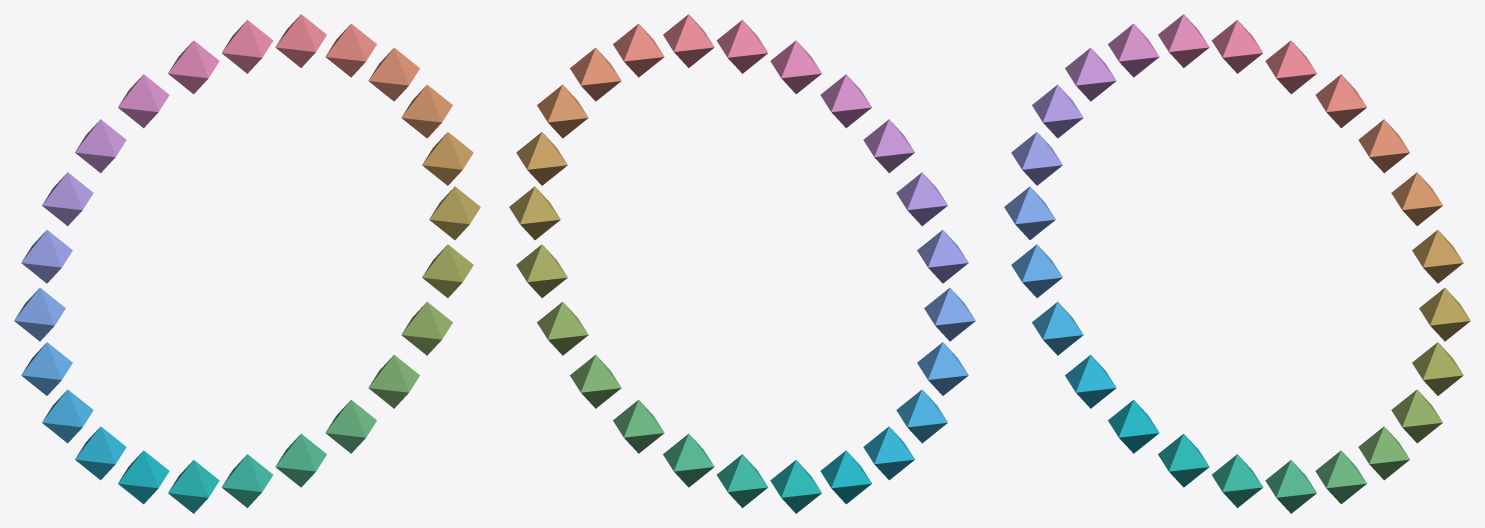
File: colors1.obj
3 renders of one model, left to right at view 1: azimuth 30°, elevation 25°; view 2: azimuth 150°, elevation 25°; view 3: azimuth 330°, elevation 25°, orthographic.
Parts seen in each view (by area): view 1: lch_70_40_45, lch_70_40_165, lch_70_40_225, lch_70_40_345, lch_70_40_75, lch_70_40_120, lch_70_40_150, lch_70_40_255, lch_70_40_300, lch_70_40_330, lch_70_40_30, lch_70_40_60 (+12 smaller); view 2: lch_70_40_45, lch_70_40_165, lch_70_40_225, lch_70_40_345, lch_70_40_75, lch_70_40_120, lch_70_40_150, lch_70_40_255, lch_70_40_300, lch_70_40_330, lch_70_40_30, lch_70_40_60 (+12 smaller); view 3: lch_70_40_15, lch_70_40_135, lch_70_40_195, lch_70_40_315, lch_70_40_30, lch_70_40_60, lch_70_40_105, lch_70_40_210, lch_70_40_240, lch_70_40_285, lch_70_40_45, lch_70_40_120 (+12 smaller).
Part boxes in pixels (x1,y1,x2,y2): lch_70_40_45: (368, 47, 419, 101); lch_70_40_165: (275, 433, 326, 487); lch_70_40_225: (75, 426, 126, 480); lch_70_40_345: (168, 40, 219, 94); lch_70_40_75: (422, 132, 473, 185); lch_70_40_120: (401, 301, 452, 355); lch_70_40_150: (325, 399, 376, 453); lch_70_40_255: (21, 342, 72, 395); lch_70_40_300: (42, 172, 93, 226); lch_70_40_330: (118, 74, 169, 128); lch_70_40_30: (325, 23, 376, 77); lch_70_40_60: (401, 84, 452, 138); lch_70_40_45: (570, 47, 621, 101); lch_70_40_165: (663, 433, 714, 487); lch_70_40_225: (863, 426, 914, 480); lch_70_40_345: (770, 40, 821, 94); lch_70_40_75: (516, 132, 567, 185); lch_70_40_120: (537, 301, 588, 355); lch_70_40_150: (613, 399, 664, 453); lch_70_40_255: (917, 342, 968, 395); lch_70_40_300: (896, 172, 947, 226); lch_70_40_330: (820, 74, 871, 128); lch_70_40_30: (613, 23, 664, 77); lch_70_40_60: (537, 84, 588, 138); lch_70_40_15: (1265, 40, 1316, 94); lch_70_40_135: (1358, 426, 1409, 480); lch_70_40_195: (1158, 433, 1209, 487); lch_70_40_315: (1065, 47, 1116, 101); lch_70_40_30: (1315, 74, 1366, 128); lch_70_40_60: (1391, 172, 1442, 226); lch_70_40_105: (1412, 342, 1463, 395); lch_70_40_210: (1108, 399, 1159, 453); lch_70_40_240: (1032, 301, 1083, 355); lch_70_40_285: (1011, 132, 1062, 185); lch_70_40_45: (1358, 119, 1409, 173); lch_70_40_120: (1391, 389, 1442, 443).
Bounding box in the file's own units: 9 × 9 × 1.
